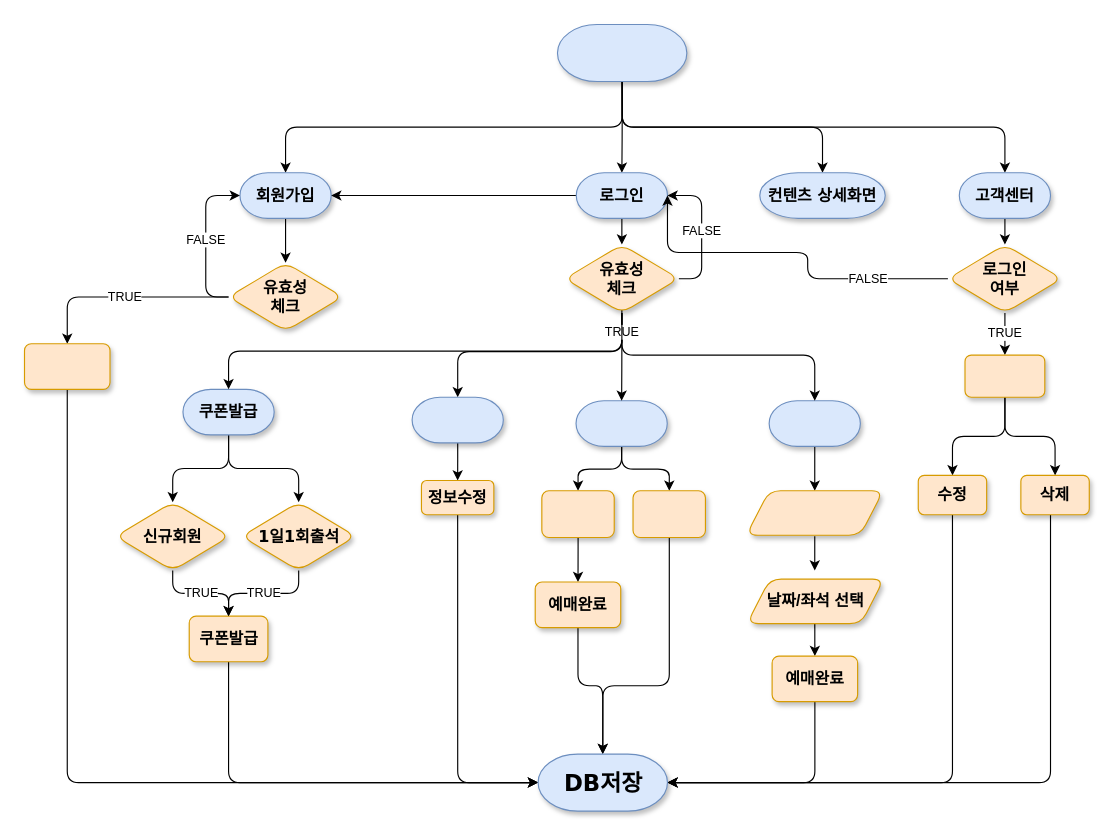
This 1116x839 diagram has some shape labels left out. The centre of each missing label's shape, as x and y in pixels:
"가입완료" belongs at pixel 68 367.
"마이페이지" belongs at pixel 458 421.
"메인화면" belongs at pixel 623 54.
"문의하기" belongs at pixel 1005 377.
"예매장소 선택" belongs at pixel 815 514.
"예매취소" belongs at pixel 578 515.
"예매하기" belongs at pixel 815 424.
"예매확인" belongs at pixel 622 424.
"평점달기" belongs at pixel 669 515.
